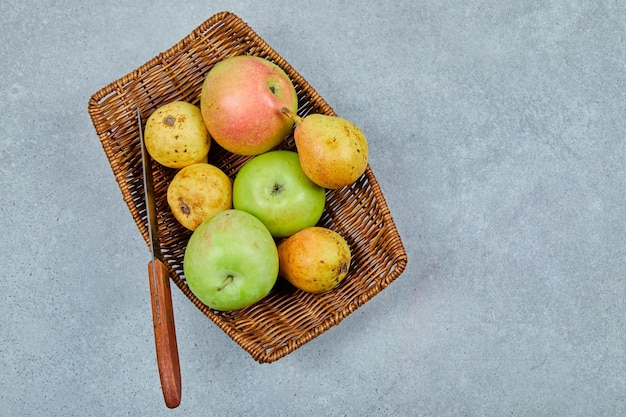knife: (132, 105, 184, 409)
